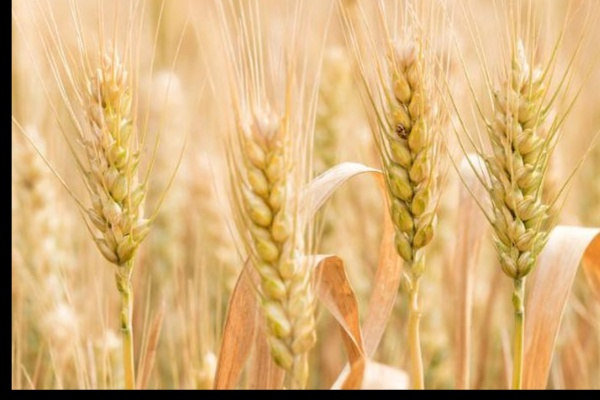wheat: (228, 112, 328, 359), (378, 29, 437, 301), (80, 47, 145, 291), (487, 49, 548, 296)
